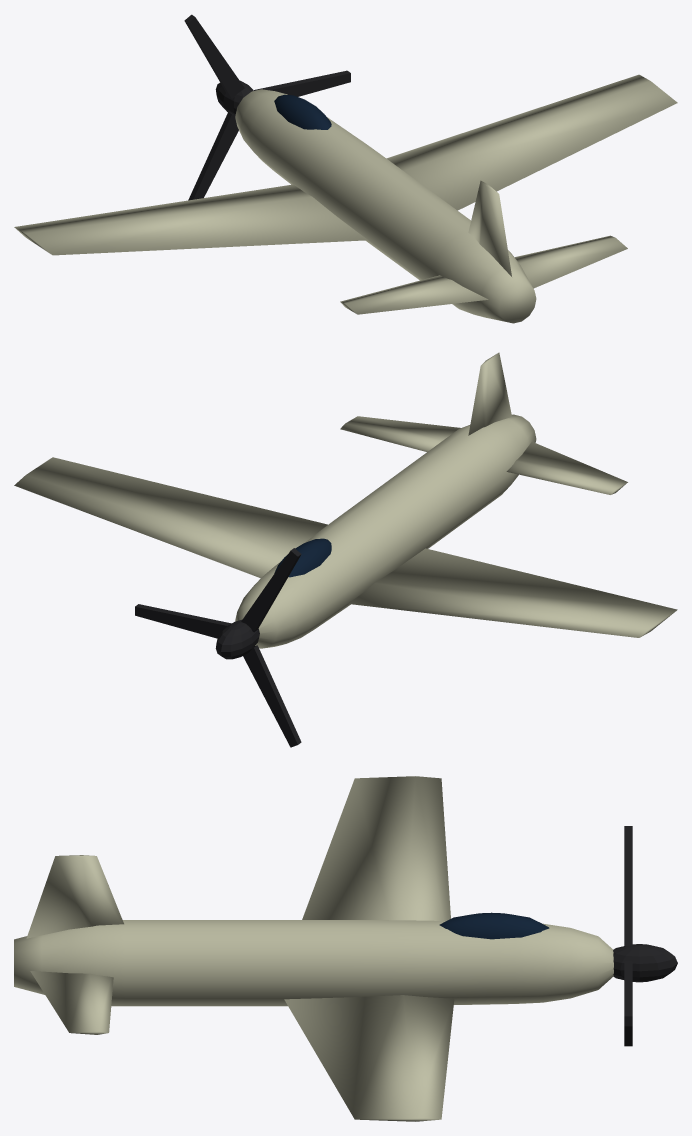
File: zero.obj
3 renders of one model, top to bottom at view 1: azimuth 30°, elevation 25°; view 2: azimuth 150°, elevation 25°; view 3: azimuth 270°, elevation 25°, orthographic. The views are drawn at different scales.
Parts seen in each view (by area): view 1: Body, Detail, Canopy; view 2: Body, Detail, Canopy; view 3: Body, Detail, Canopy.
Part boxes in pixels (x1=…): Body: x1=14, y1=74, x2=677, y2=323; Detail: x1=184, y1=14, x2=350, y2=200; Canopy: x1=274, y1=94, x2=331, y2=129; Body: x1=14, y1=352, x2=677, y2=648; Detail: x1=135, y1=548, x2=301, y2=747; Canopy: x1=274, y1=538, x2=331, y2=577; Body: x1=14, y1=776, x2=613, y2=1121; Detail: x1=613, y1=826, x2=677, y2=1046; Canopy: x1=439, y1=912, x2=549, y2=939.
Bounding box in the file's own units: 12 × 3.61 × 9.87.
